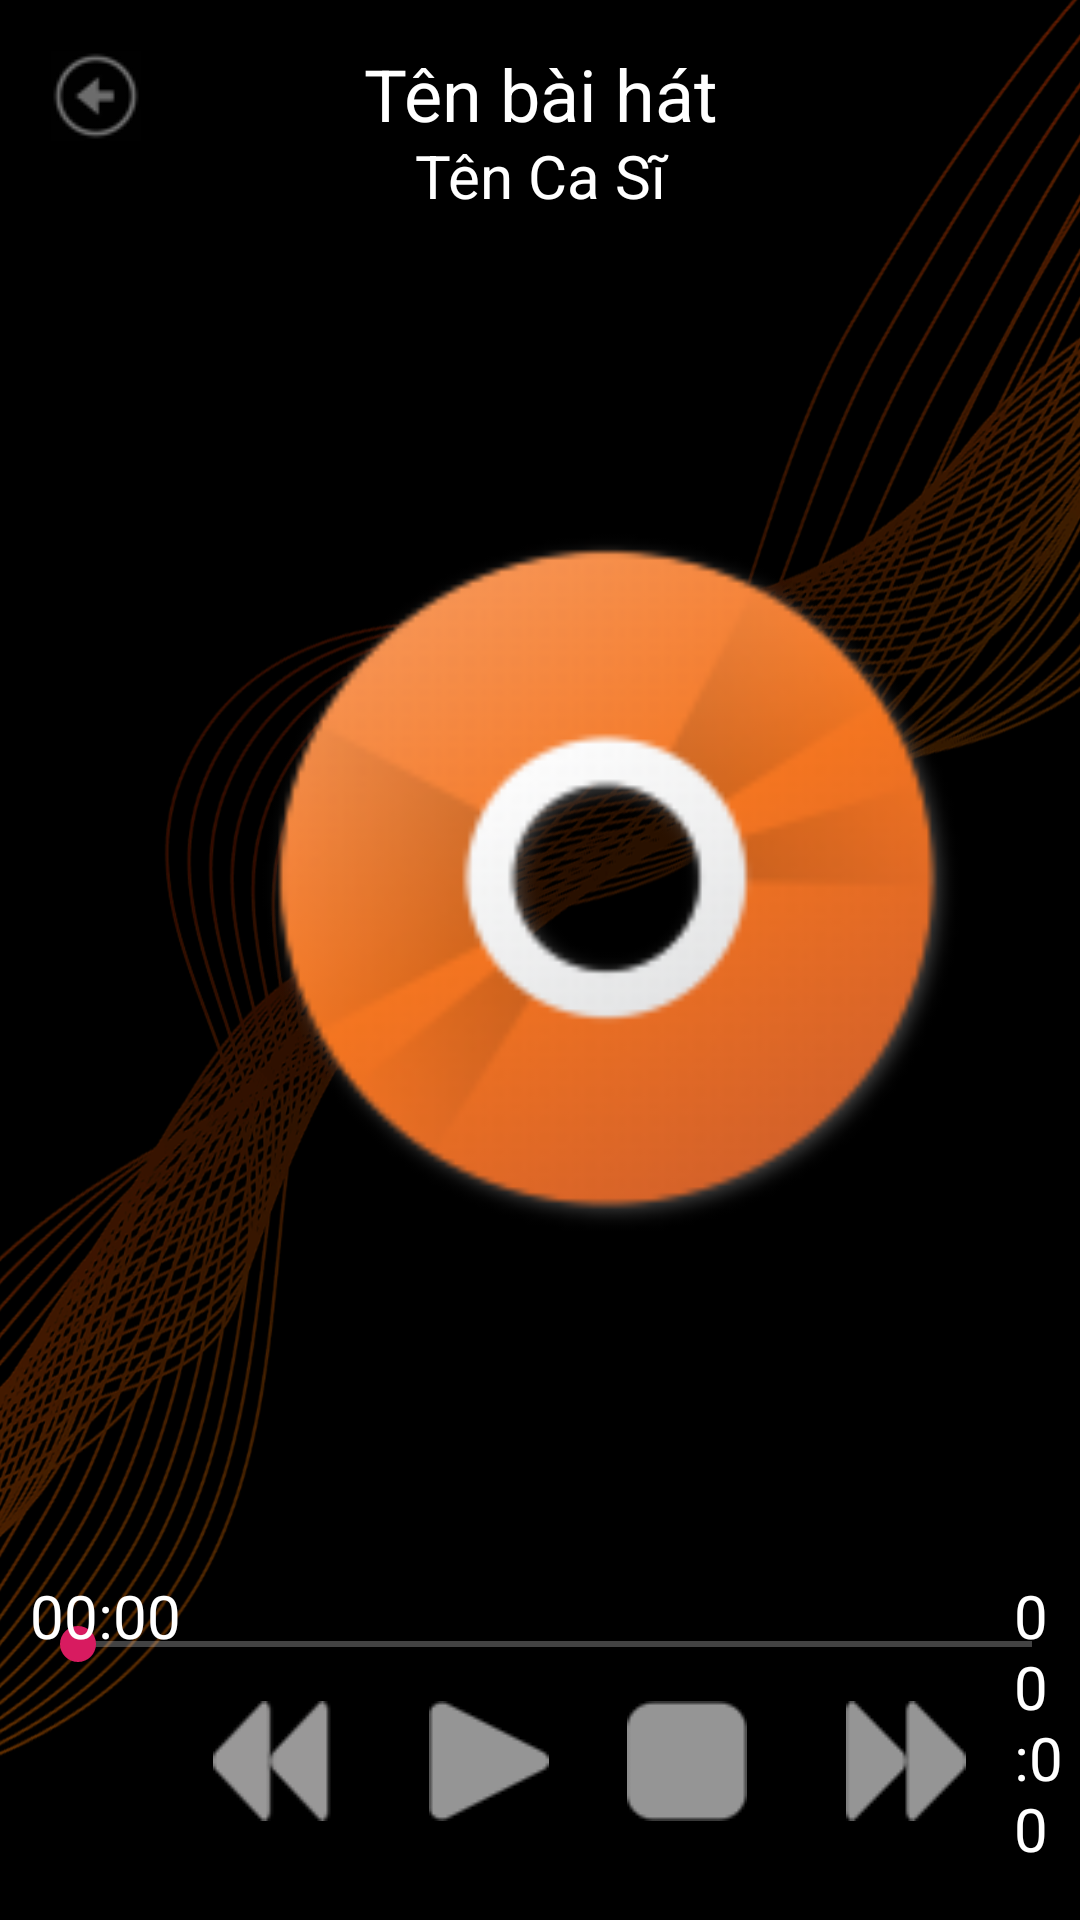

Icon bounding boxes for this 1080 x 1920 phone screenshot, format (left=x1, top=y1, right=x2, bottom=y2):
back: (left=55, top=55, right=137, bottom=137)
next: (left=846, top=1701, right=966, bottom=1821)
playbtn: (left=429, top=1701, right=549, bottom=1821)
prev: (left=213, top=1701, right=330, bottom=1821)
stop: (left=627, top=1701, right=747, bottom=1821)
